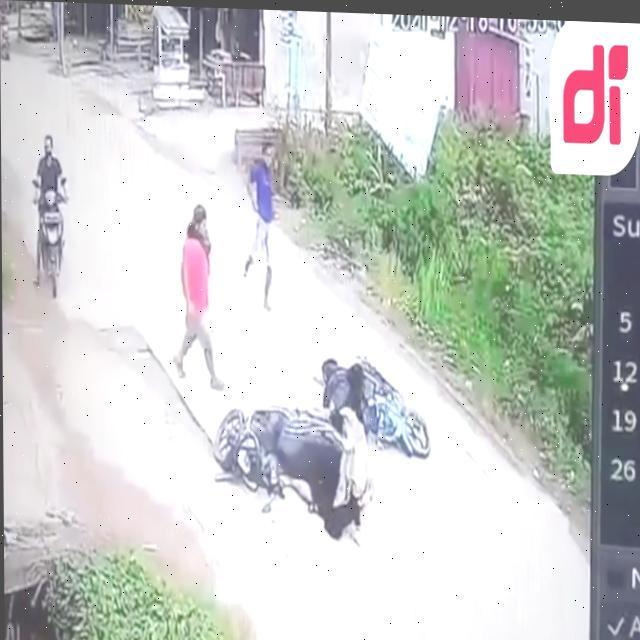single accident: (193, 255, 472, 563), (33, 98, 88, 297)
